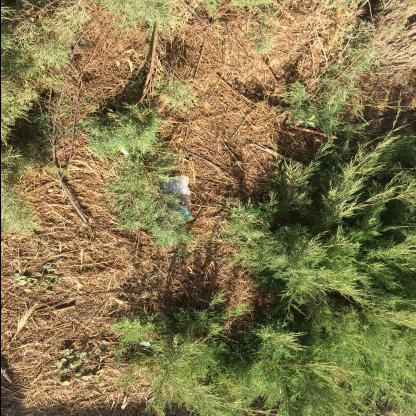plastik: (162, 176, 192, 224)
